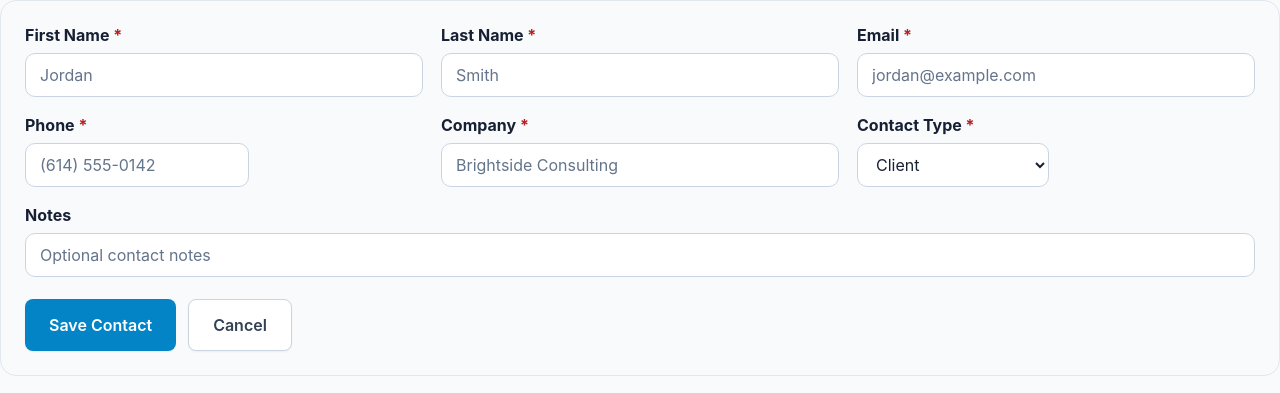
it: ContactEntry › formats the phone number as the user types
In the field labelled "Phone *": (137, 165) [25,143,249,187], type "6145550142"
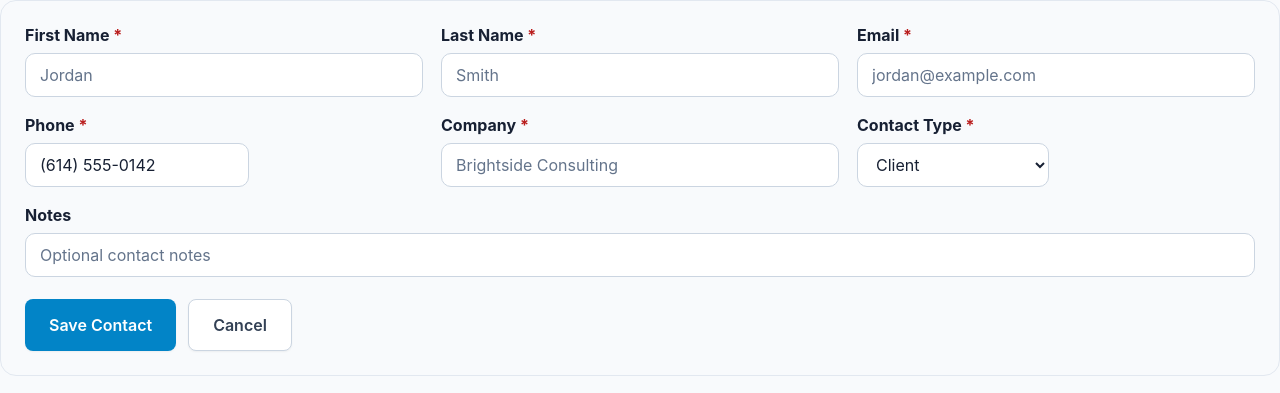
Now the field labelled "Phone *" holds "(614) 555-0142", box [25,143,249,187]
